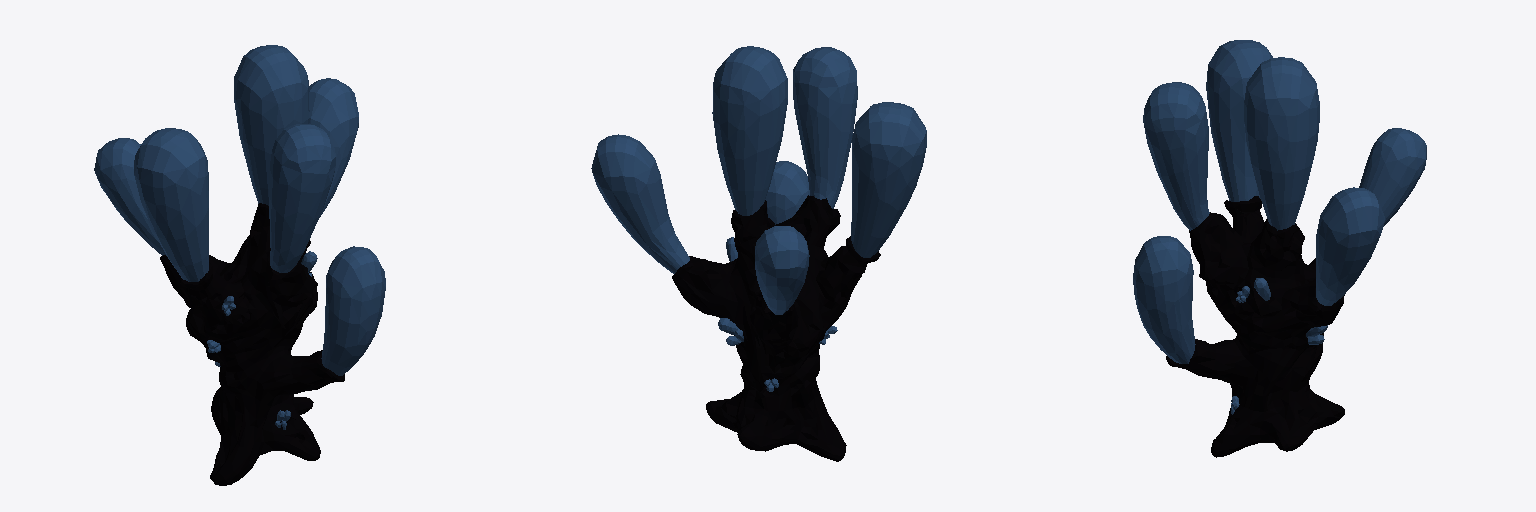
The model's file is HetooTree.obj.
The picture shows the model from 3 angles: view 1: azimuth 30°, elevation 25°; view 2: azimuth 150°, elevation 25°; view 3: azimuth 270°, elevation 25°; orthographic projection.
Visible parts, largest first — view 1: TreeBase_LP_Untitled; view 2: TreeBase_LP_Untitled; view 3: TreeBase_LP_Untitled.
Boxes of the visible parts, box(x1,y1,x2,y2) form: TreeBase_LP_Untitled: box(94, 45, 385, 485); TreeBase_LP_Untitled: box(591, 46, 926, 461); TreeBase_LP_Untitled: box(1133, 40, 1426, 457).
Size of the model in its own units: 5.73 by 8.16 by 5.35.